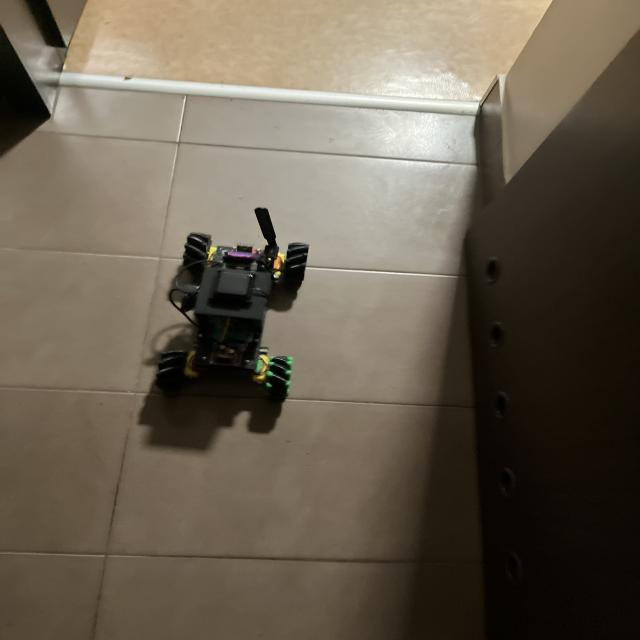robot: (156, 208, 309, 401)
